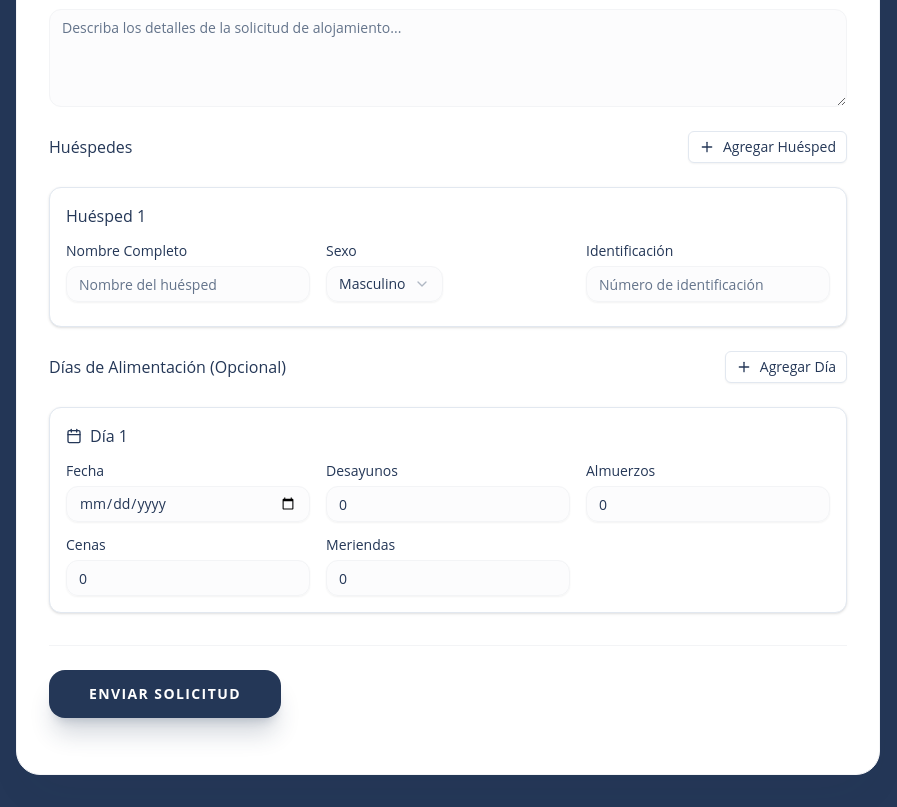
Test: AccommodationProcedureForm validación › muestra errores al enviar formulario vacío
(page scrolled)
What coordinates should you click on to do the following:
click the button "Enviar Solicitud"
I would click on:
 (165, 694)
Its box is [49,670,281,718].
(page scrolled)
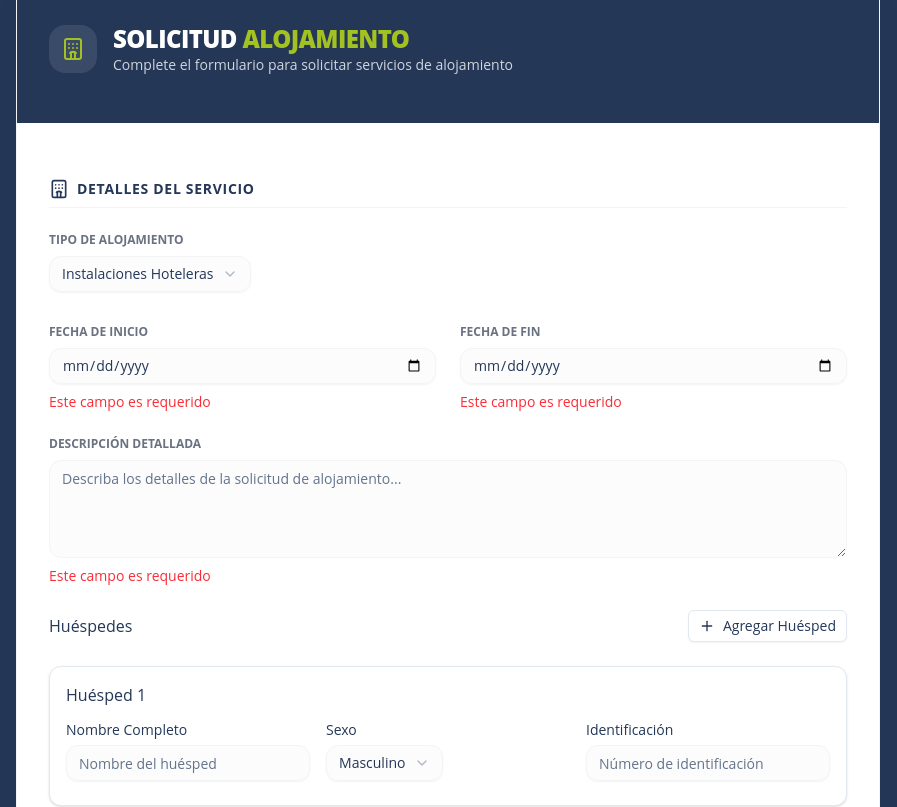
Now the text "Este campo es requerido" below "Fecha de Inicio" is shown, box [49,392,211,411]
